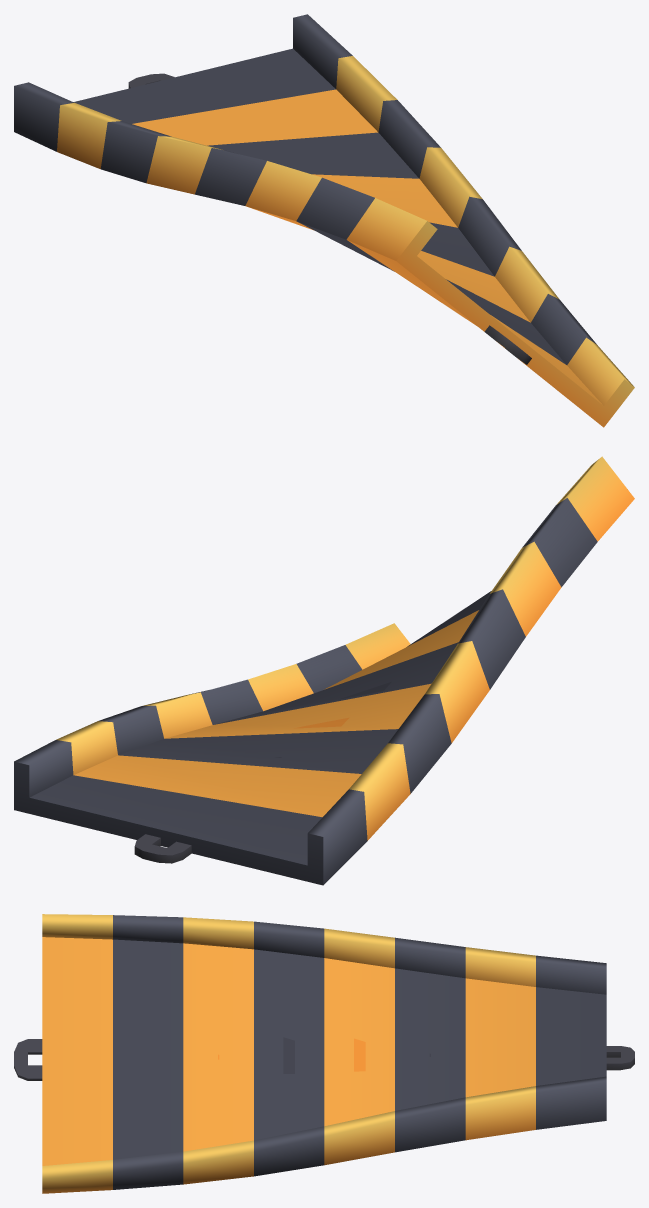
Rendered from track-striped-wide-straight-skew-left.fbx.
The picture shows the model from 3 angles, top to bottom: view 1: azimuth 30°, elevation 25°; view 2: azimuth 150°, elevation 25°; view 3: azimuth 270°, elevation 25°; orthographic projection. The views are drawn at different scales.
Parts seen in each view (by area): view 1: track-striped-wide-straight-skew-left; view 2: track-striped-wide-straight-skew-left; view 3: track-striped-wide-straight-skew-left.
Boxes of the visible parts, x1=… form: track-striped-wide-straight-skew-left: x1=14, y1=14, x2=634, y2=427; track-striped-wide-straight-skew-left: x1=14, y1=456, x2=634, y2=885; track-striped-wide-straight-skew-left: x1=14, y1=914, x2=634, y2=1193.
Size of the model in its own units: 204 by 163 by 440.
